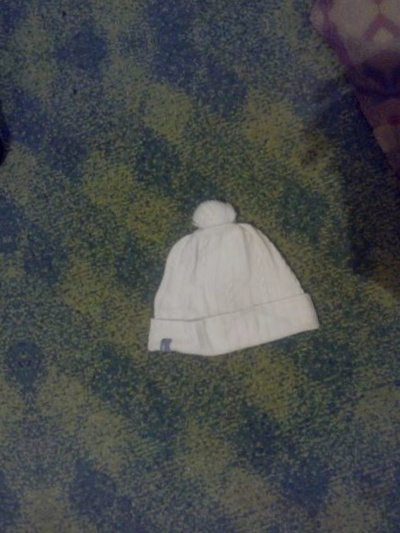Hat: (100, 157, 329, 380)
